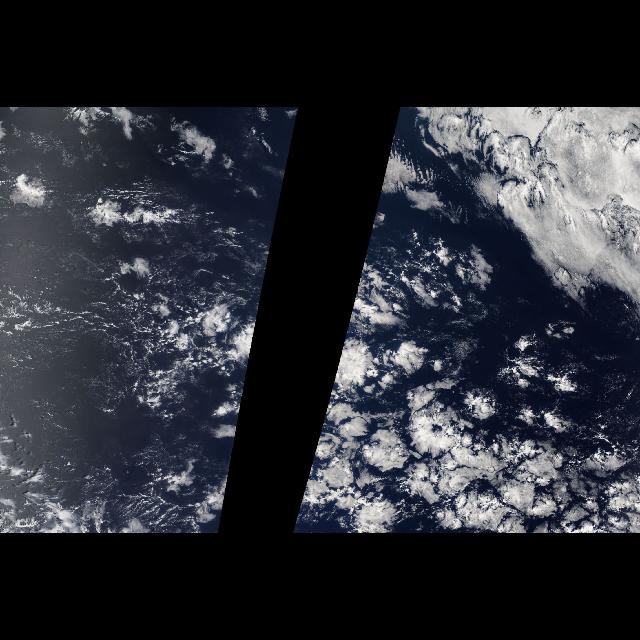Flower: (293, 245, 639, 530), (196, 245, 270, 530)
Gravel: (70, 253, 188, 412)
Sugar: (3, 231, 200, 533)
